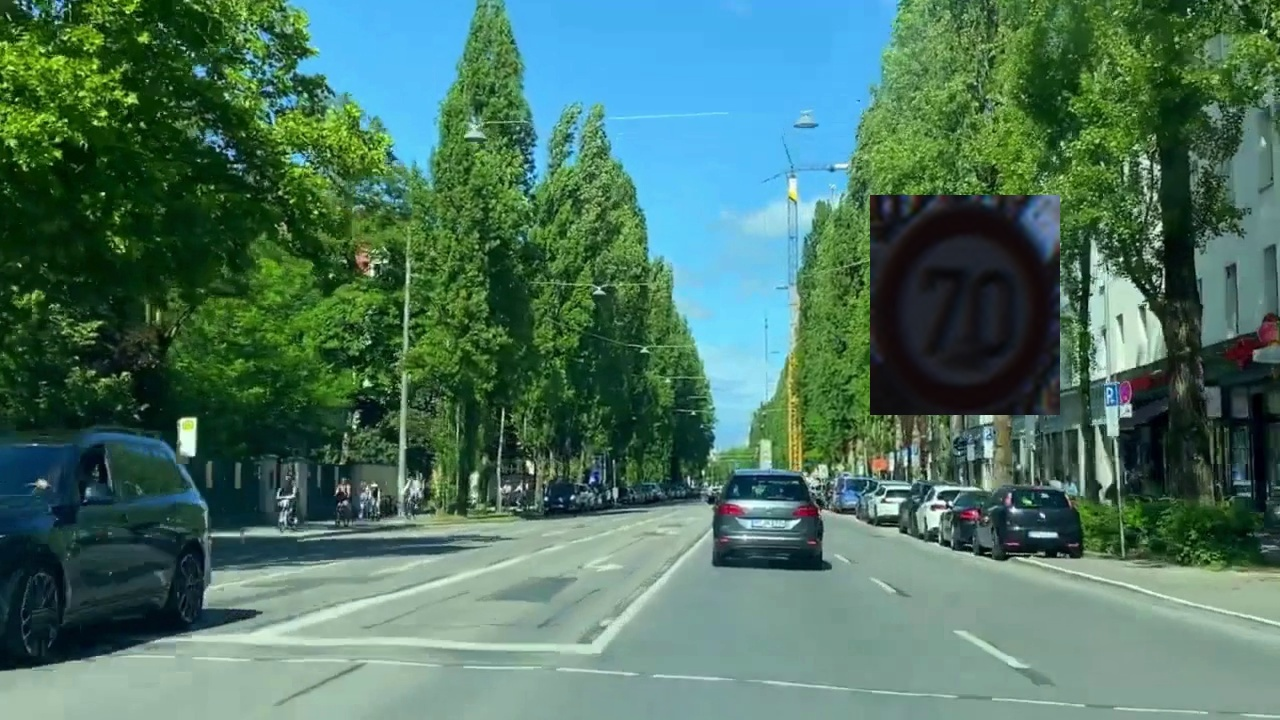Speed 70: (870, 195, 1060, 415)
